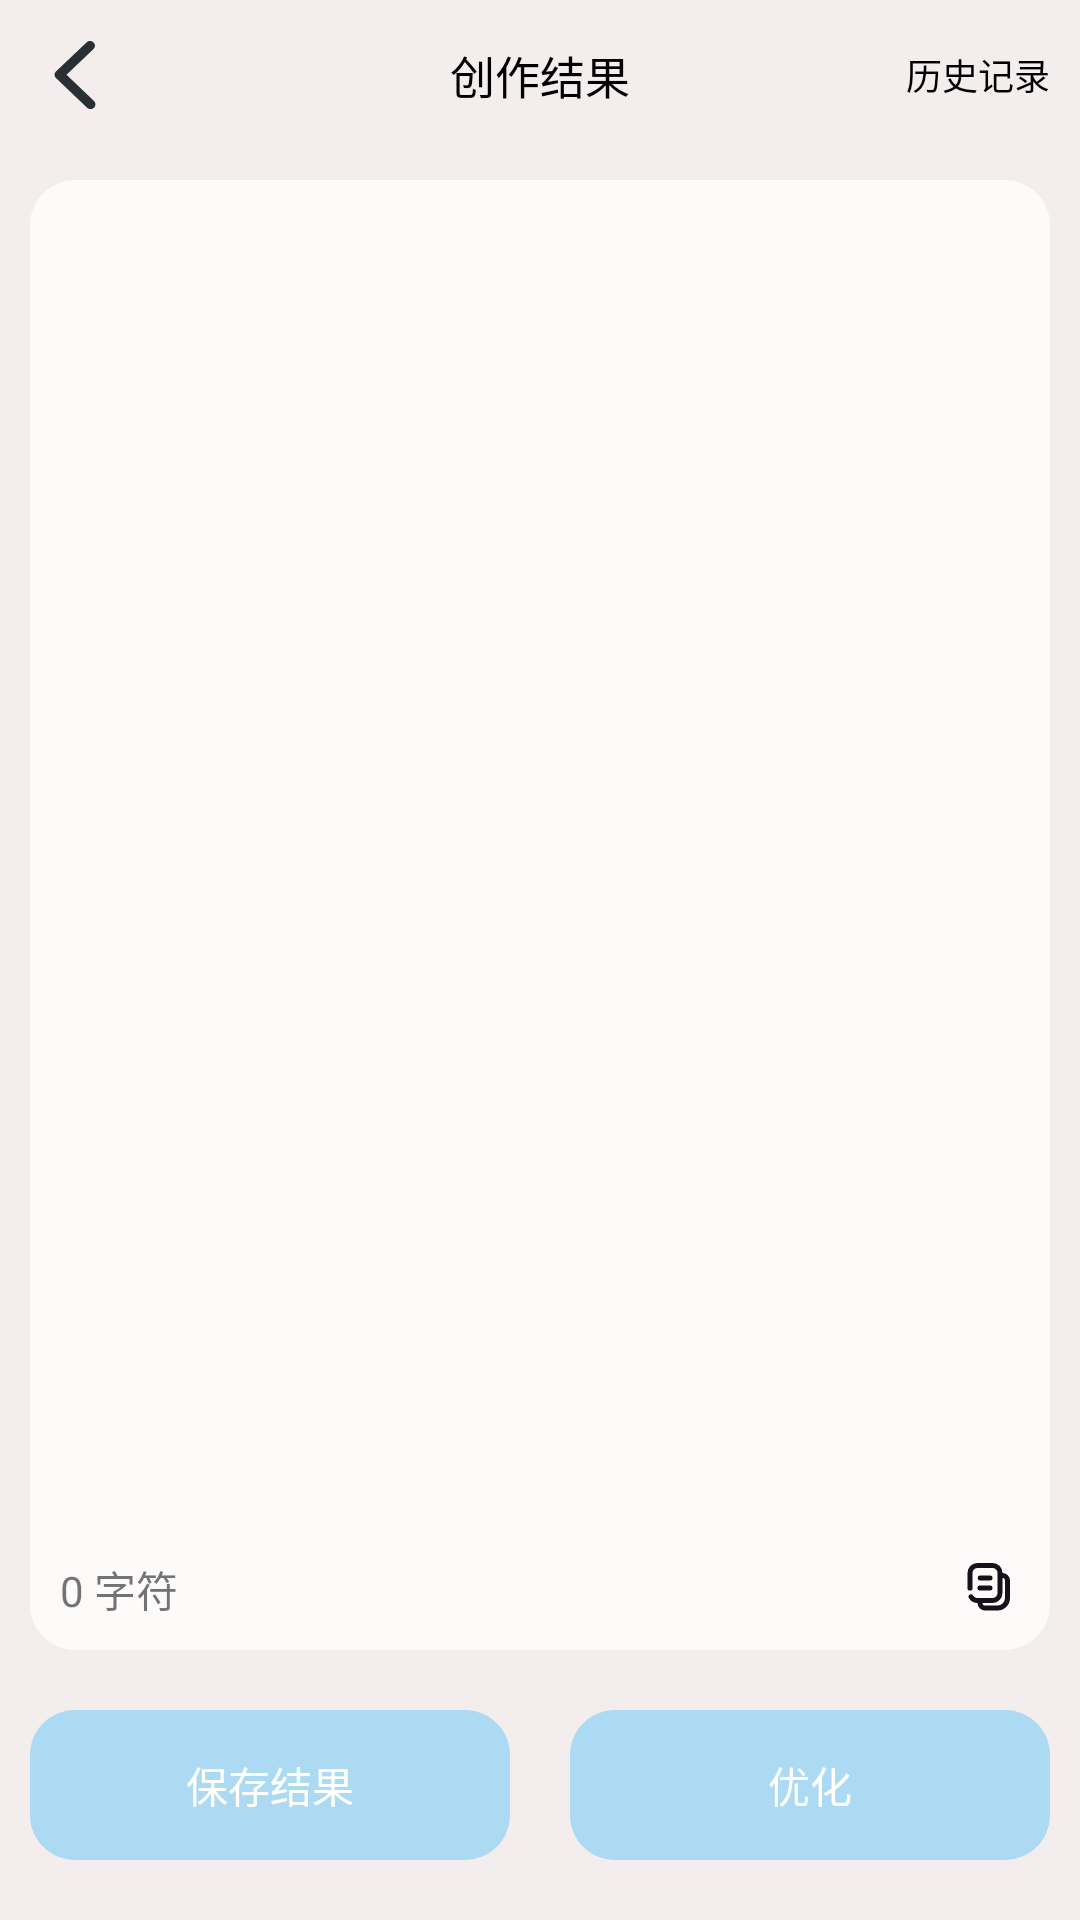

Where icons sit on this 1080*1920 app screen, as (x1=x1, y1=y1, x2=x2, y2=y2):
get back: (x1=54, y1=41, x2=96, y2=109)
